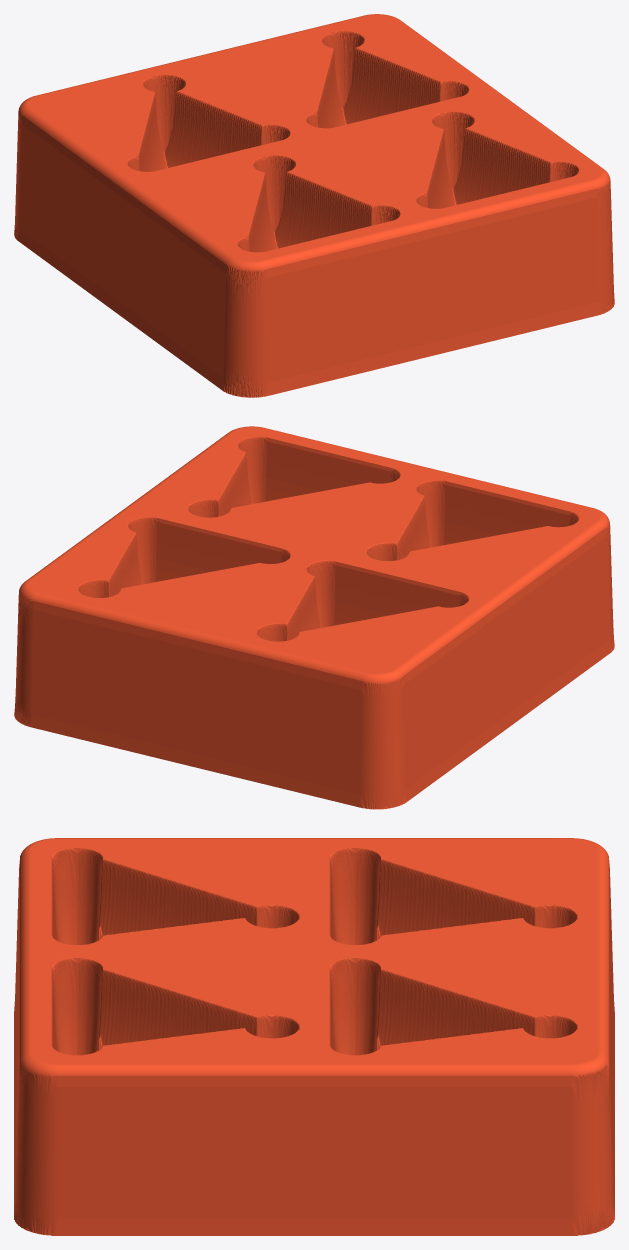
File: mold.glb
3 views of the same model, one above another, from view 1: azimuth 30°, elevation 25°; view 2: azimuth 150°, elevation 25°; view 3: azimuth 270°, elevation 25° (orthographic). The views are drawn at different scales.
Visible parts, largest first — view 1: geometry_0; view 2: geometry_0; view 3: geometry_0.
Boxes of the visible parts, x1,y1,x2,y2 form: geometry_0: (14, 14, 614, 397); geometry_0: (14, 426, 614, 809); geometry_0: (14, 838, 614, 1235).
Size of the model in its own units: 0.1176 by 0.0377 by 0.1248.
